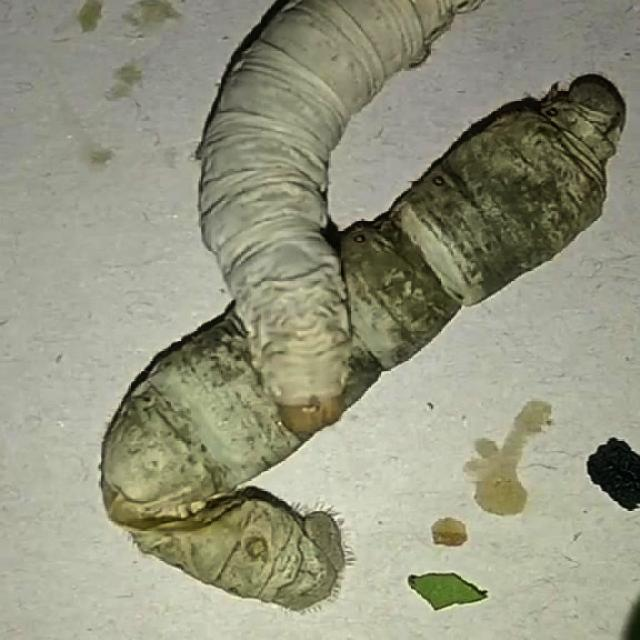Grasserie: (67, 64, 617, 614)
